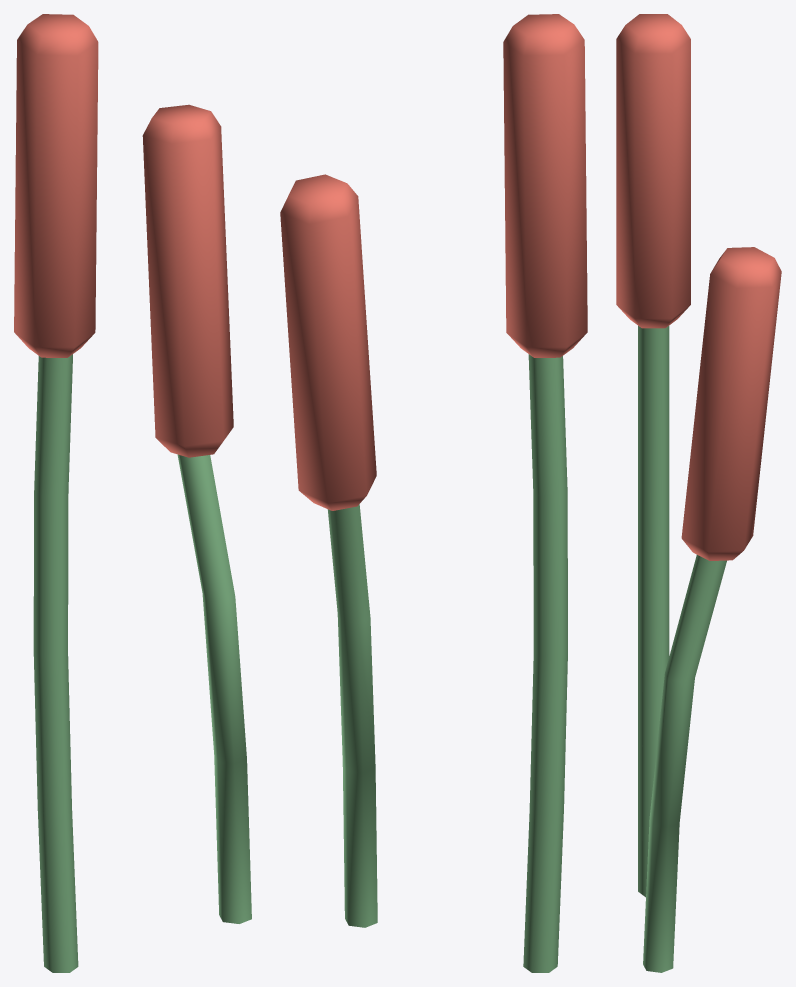
Rendered from cattail_3.fbx.
3 views of the same model, side by side, from view 1: azimuth 30°, elevation 25°; view 2: azimuth 150°, elevation 25°; view 3: azimuth 270°, elevation 25° (orthographic). The views are drawn at different scales.
Visible parts, largest first — view 1: cattail.002; view 2: cattail.002; view 3: cattail.002.
Part boxes in pixels (left/top/right/bottom): cattail.002: left=14, top=14, right=251, bottom=972; cattail.002: left=280, top=14, right=587, bottom=972; cattail.002: left=616, top=14, right=781, bottom=972.
Bounding box in the file's own units: 31.51 × 117 × 20.31.
